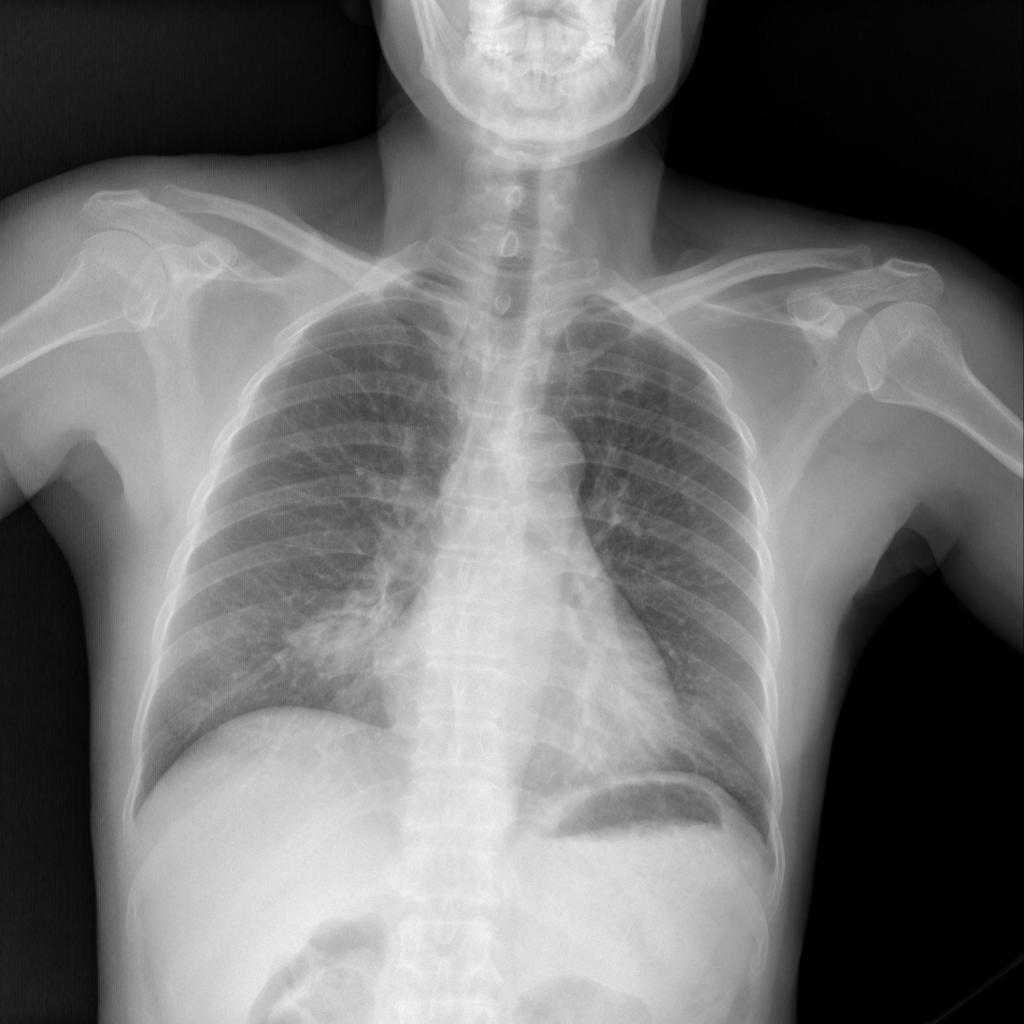Nodule: (283, 570, 420, 687), (214, 578, 227, 590)
